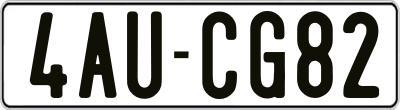2: (341, 11, 383, 100)
4: (29, 9, 72, 100)
8: (296, 8, 336, 97)
A: (77, 12, 117, 100)
C: (202, 11, 241, 103)
G: (250, 10, 290, 97)
U: (125, 9, 162, 100)
